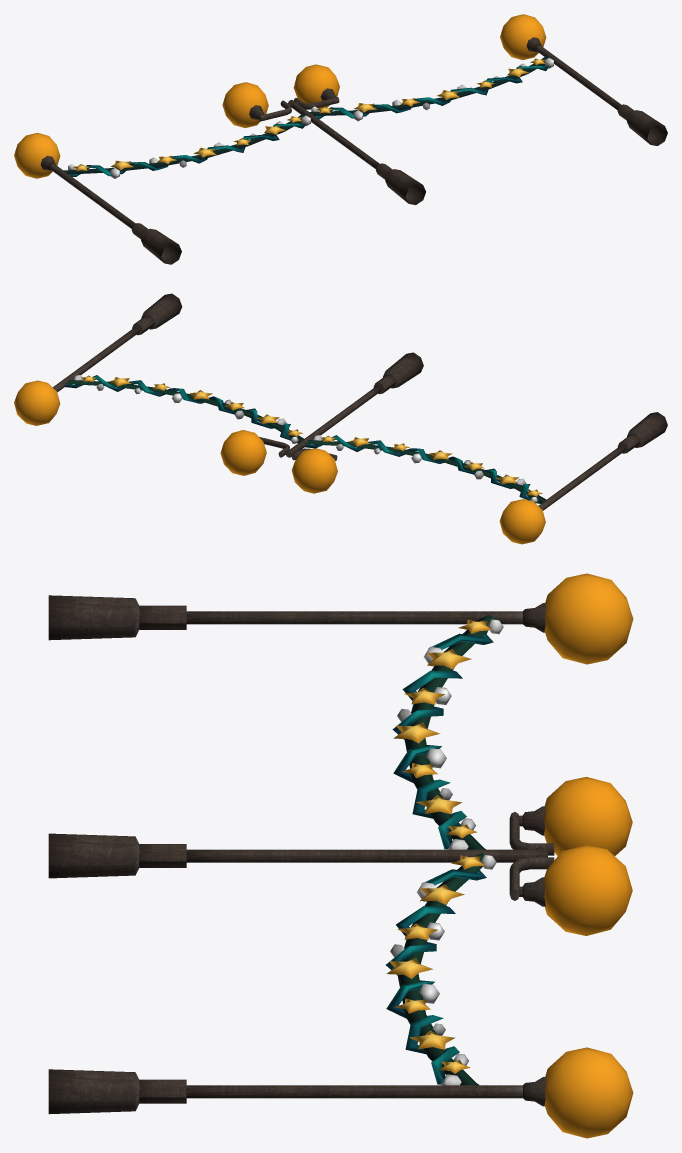
The model's file is StreetLight_Garland_B.fbx.
3 renders of one model, top to bottom at view 1: azimuth 30°, elevation 25°; view 2: azimuth 150°, elevation 25°; view 3: azimuth 270°, elevation 25°, orthographic. The views are drawn at different scales.
Visible parts, largest first — view 1: StreetLight_Garland_B; view 2: StreetLight_Garland_B; view 3: StreetLight_Garland_B.
Boxes of the visible parts, box(x1,y1,x2,y2) form: StreetLight_Garland_B: box(14, 14, 667, 264); StreetLight_Garland_B: box(14, 293, 667, 544); StreetLight_Garland_B: box(48, 573, 633, 1138).
Bounding box in the file's own units: 157 × 12.23 × 75.96.
